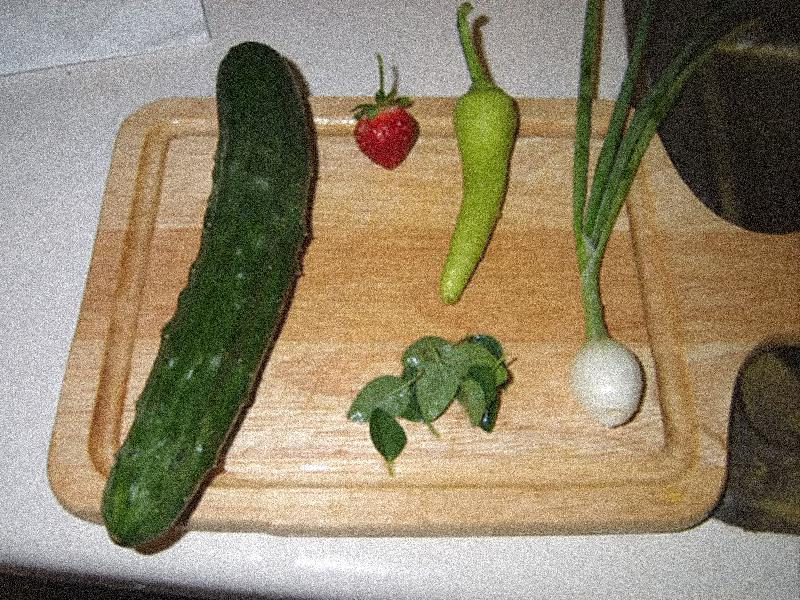Cucumber: (101, 43, 313, 547)
